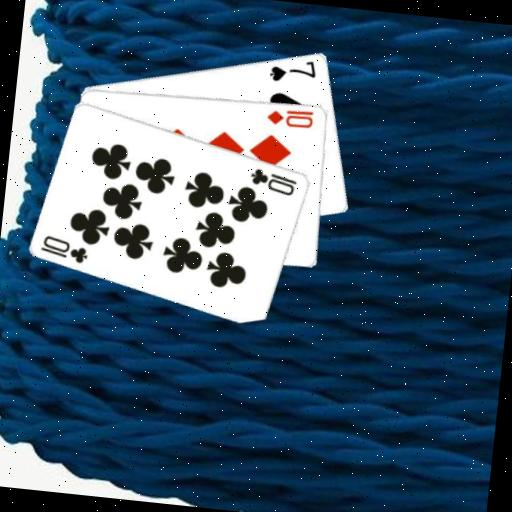10C: (37, 232, 92, 266), (246, 164, 300, 198)
10D: (263, 103, 316, 131)
7S: (266, 53, 319, 87)
